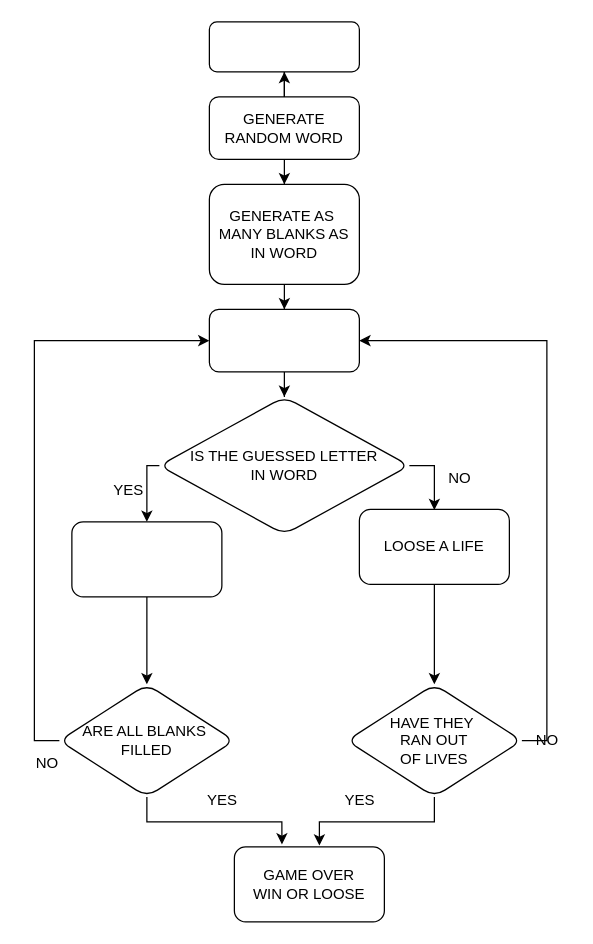
This 593x944 diagram has some shape labels left out. The shapes that lost their labels are listed below. From the top down, each one's box as (x1, y1, x2, y2) in pixels, then its label:
(208, 21, 359, 72): START
(208, 308, 359, 372): ASK USER TO GUESS LETTER
(71, 521, 222, 597): REPLACE BLANK WITH LETTER
